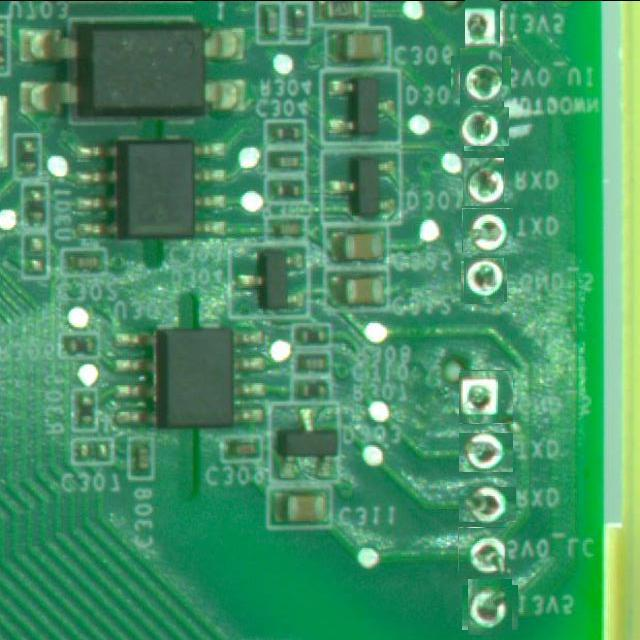lack_of_part: (460, 370, 513, 424), (465, 582, 515, 633), (456, 52, 506, 103), (462, 208, 513, 253), (458, 432, 513, 472), (460, 160, 506, 205), (458, 527, 505, 571), (458, 487, 516, 522), (462, 104, 506, 148), (462, 260, 506, 303), (461, 1, 504, 44)
